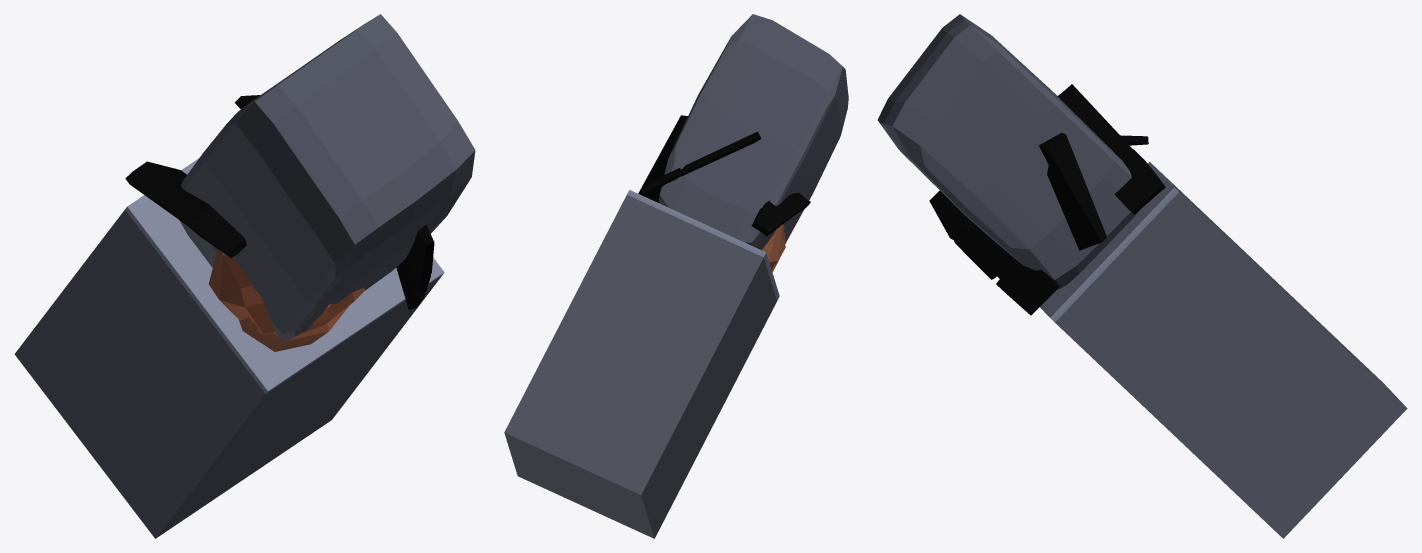
File: debris_wall.glb
3 renders of one model, left to right at view 1: azimuth 30°, elevation 25°; view 2: azimuth 150°, elevation 25°; view 3: azimuth 270°, elevation 25°, orthographic. The views are drawn at different scales.
Parts seen in each view (by area): view 1: wall; view 2: wall; view 3: wall.
Boxes of the visible parts, x1=… form: wall: x1=14, y1=14, x2=475, y2=538; wall: x1=504, y1=14, x2=848, y2=538; wall: x1=877, y1=14, x2=1407, y2=538.
Size of the model in its own units: 1.45 by 3.08 by 2.94.
1 material, 1 textured.
